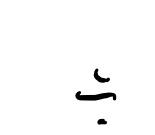div: (76, 69, 117, 125)
